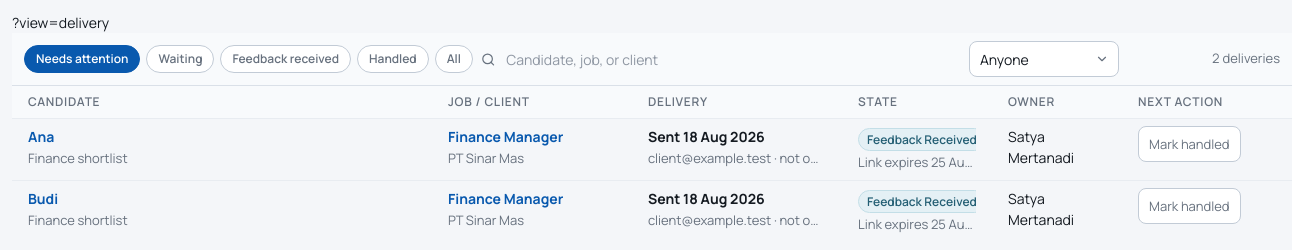
Test: DeliveryWorkbench › actions › only shows the busy state on the row being written
Click the 1st button "Mark handled": (1189, 144) [1138,126,1240,162]
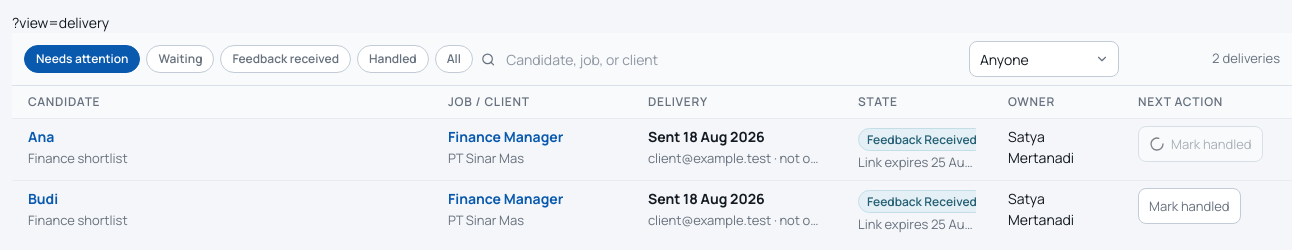
Expected: the button "Mark handled" in the row of "Budi" is enabled, [1138,188,1240,224]
Expected: the 1st button "Mark handled" is disabled, [1138,126,1262,162]
